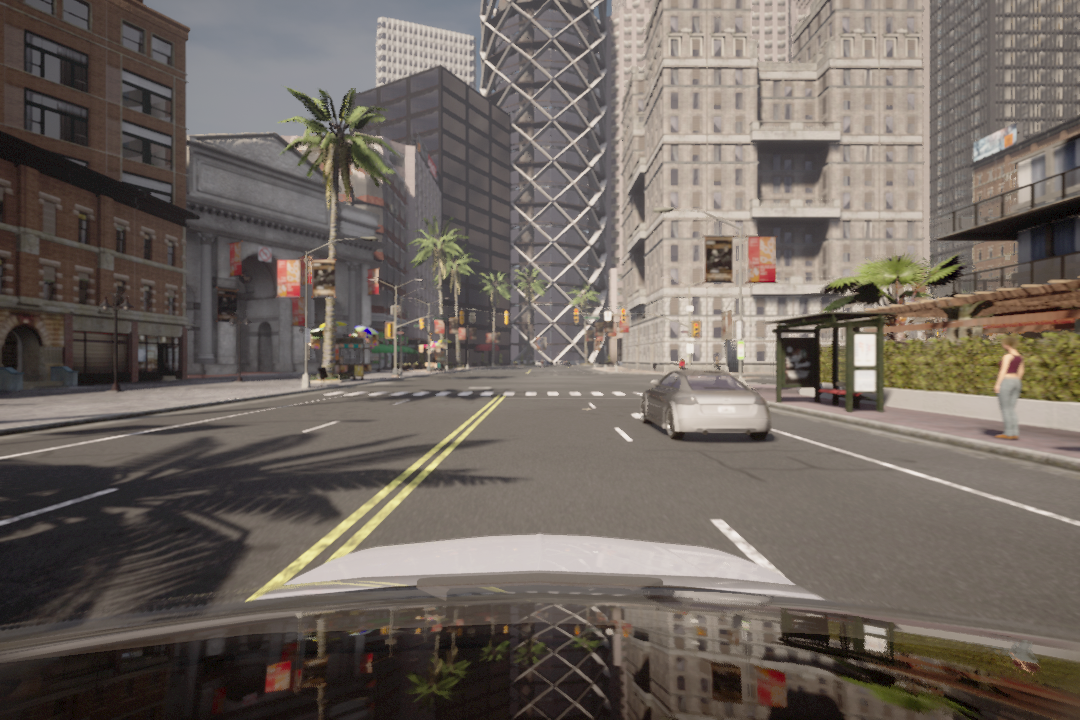walkside: (326, 388, 657, 401)
